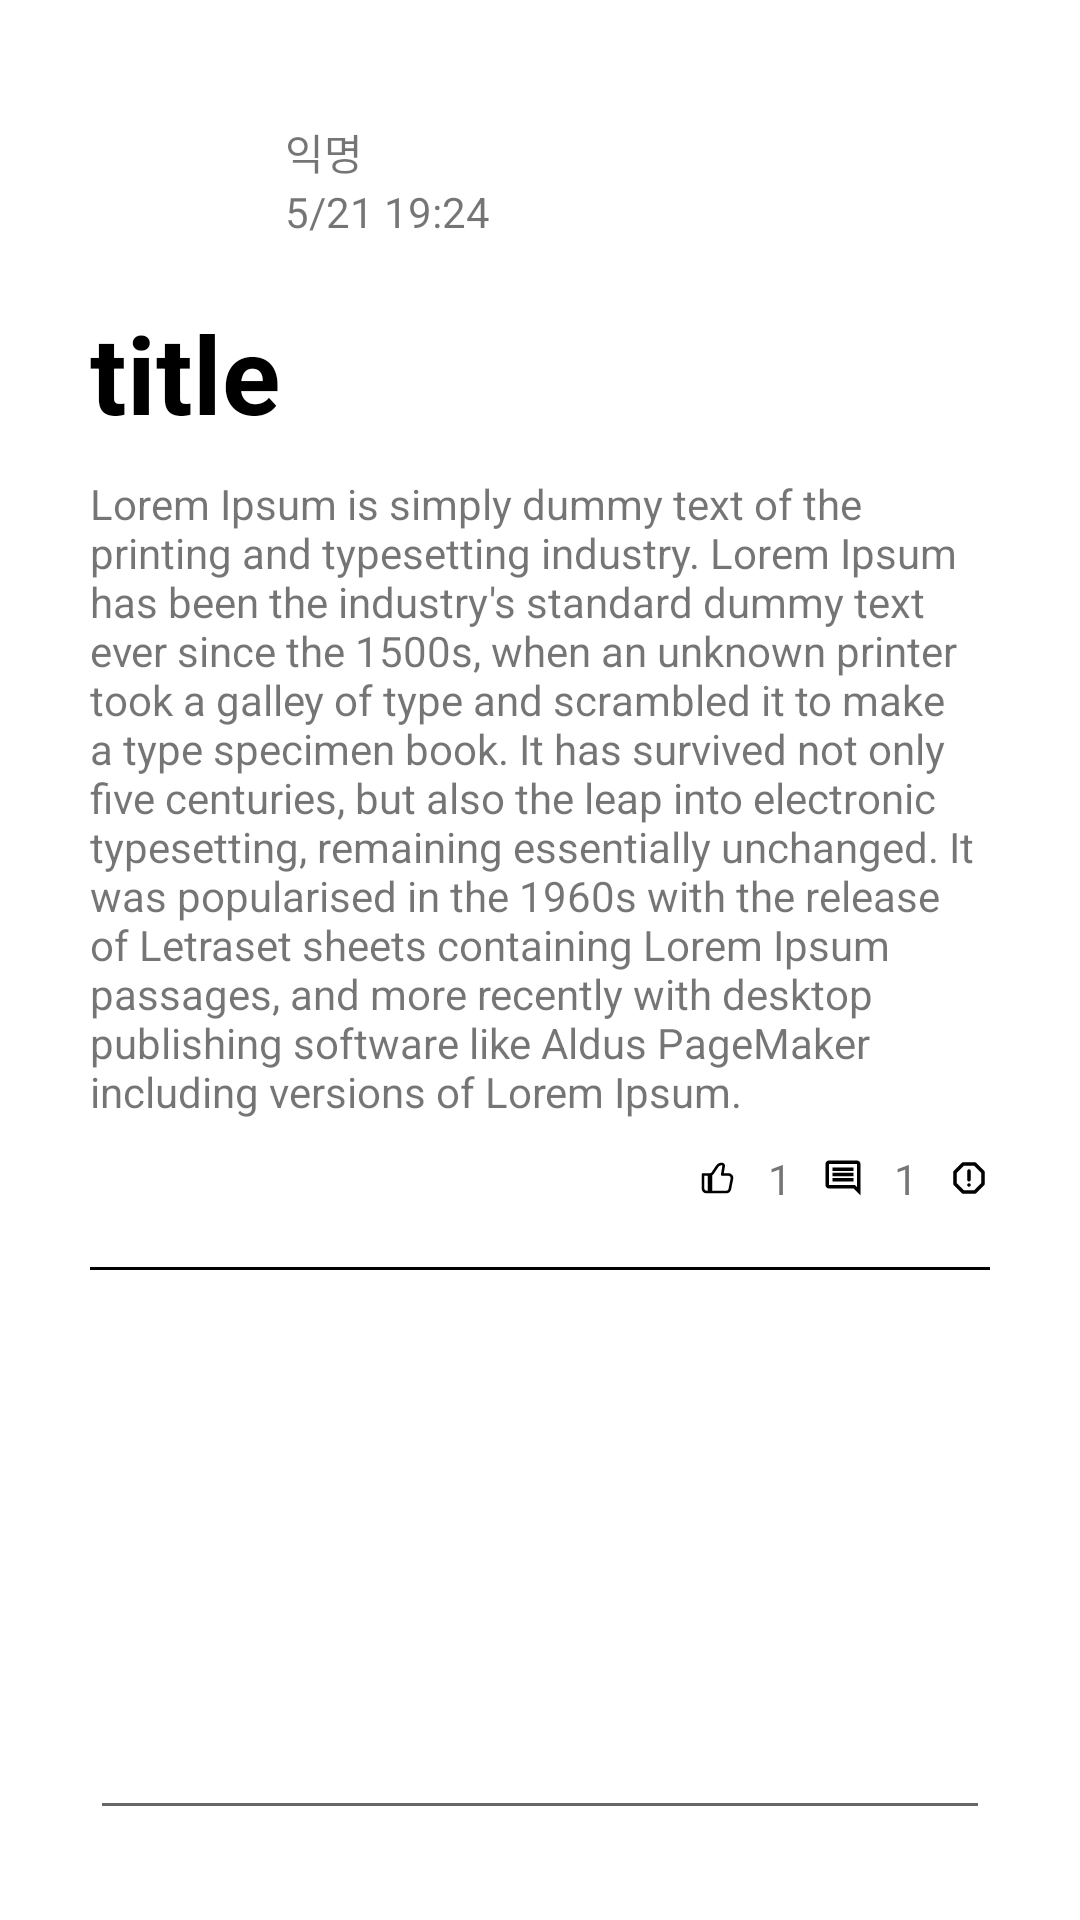

Named icons in this screenshot (1080*1920) and their centers, [x,y]:
article comment: [843,1177]
article like: [717,1178]
article report: [969,1178]
